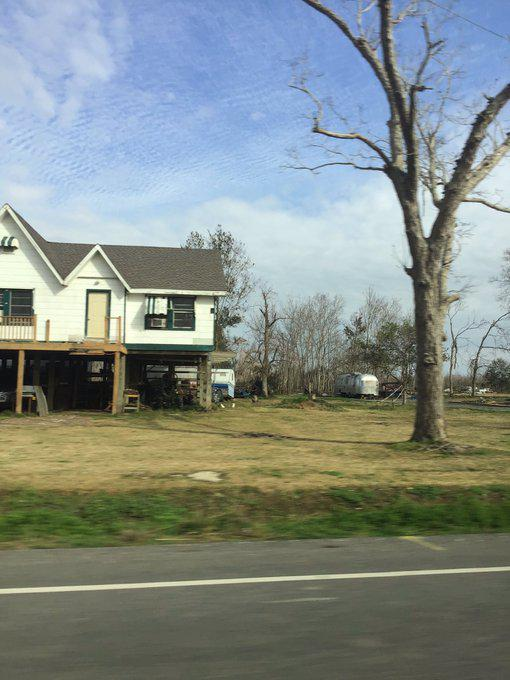affected: (0, 193, 261, 411)
